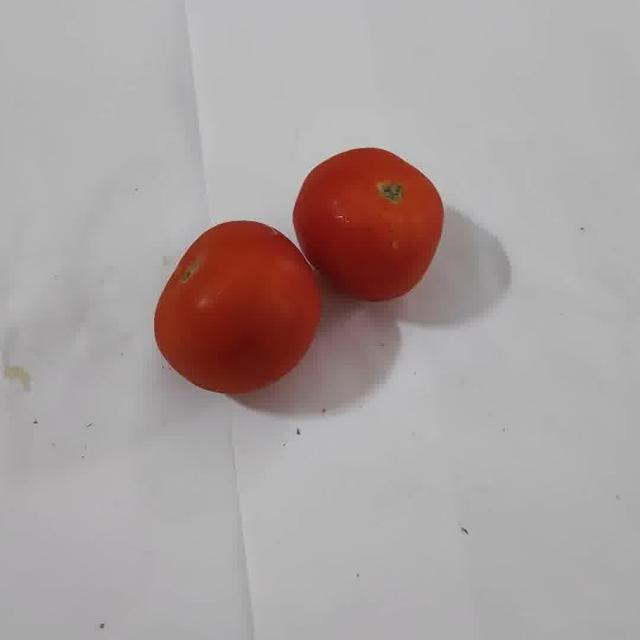Tomato: (154, 222, 321, 395), (293, 148, 444, 301)
